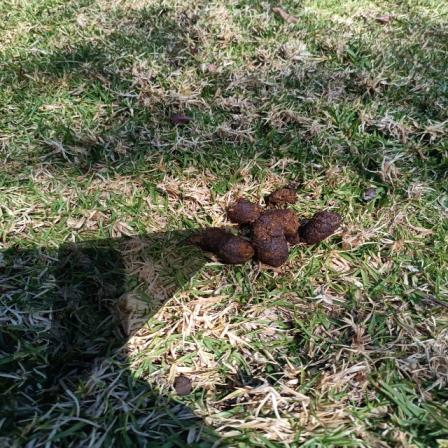dog-poop: (208, 188, 334, 260)
